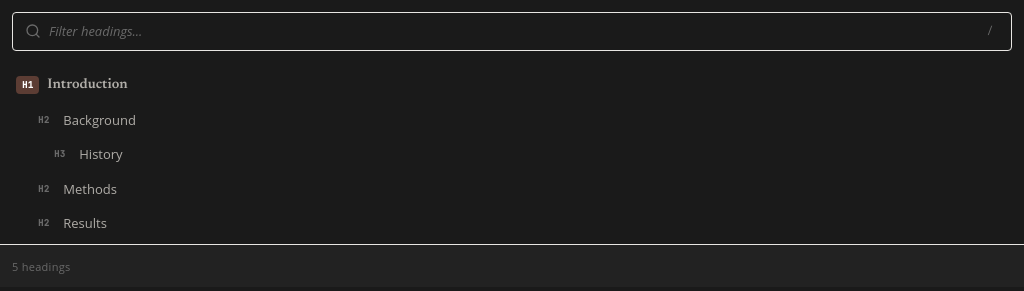
Test: DocumentOutline › filter is case-insensitive
This screenshot has width=1024, height=291.
Type "METHODS" into the field with test id "outline-filter" at (511, 31), box [49,21,973,42]
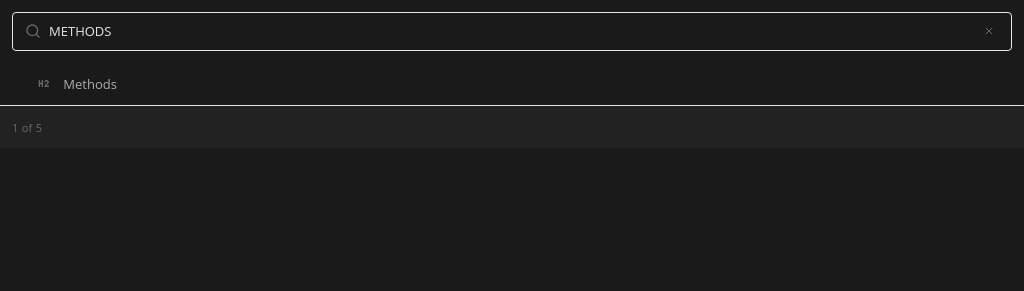
Check: the text "Methods" is shown, box [63,75,117,93]
Check: the text "1 of 5" is shown, box [12,120,42,135]
